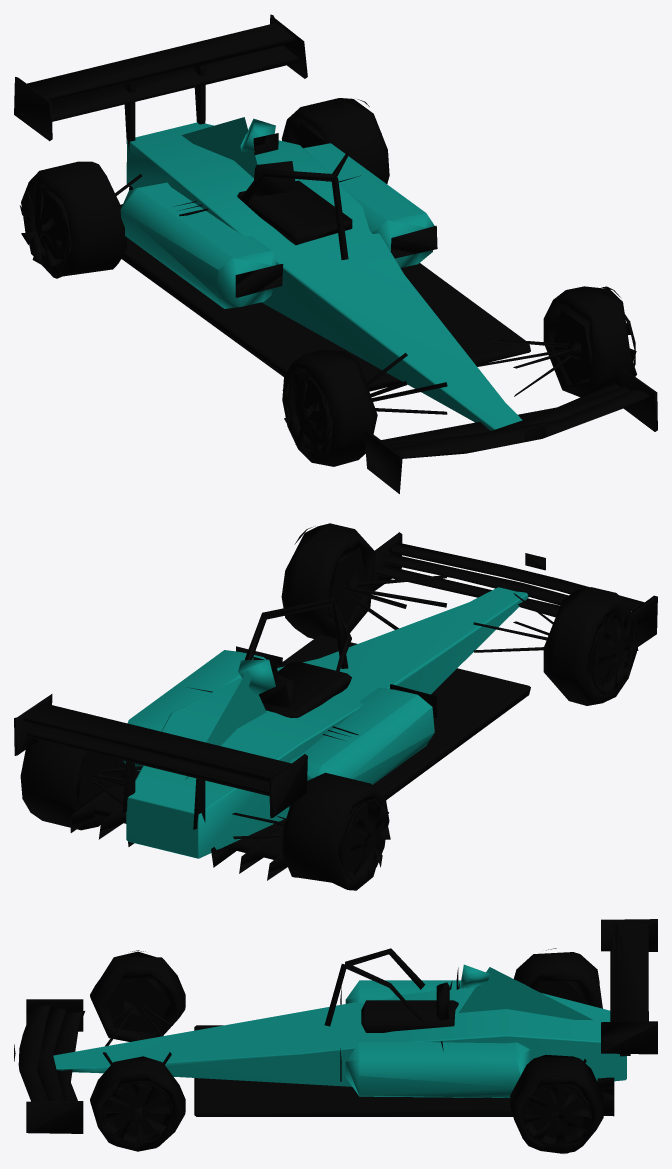
Rendered from f1-far.glb.
The picture shows the model from 3 angles, top to bottom: view 1: azimuth 30°, elevation 25°; view 2: azimuth 150°, elevation 25°; view 3: azimuth 270°, elevation 25°; orthographic projection. The views are drawn at different scales.
Visible parts, largest first — view 1: chassis.001__Automotive clearcoat, chassis.001__Vehicle detail atlas, wheel_RL.001__Vehicle detail atlas, wheel_FL.001__Vehicle detail atlas, wheel_FR.001__Vehicle detail atlas, wheel_RR.001__Vehicle detail atlas; view 2: chassis.001__Vehicle detail atlas, chassis.001__Automotive clearcoat, wheel_RL.001__Vehicle detail atlas, wheel_FL.001__Vehicle detail atlas, wheel_FR.001__Vehicle detail atlas, wheel_RR.001__Vehicle detail atlas; view 3: chassis.001__Automotive clearcoat, chassis.001__Vehicle detail atlas, wheel_RR.001__Vehicle detail atlas, wheel_FR.001__Vehicle detail atlas, wheel_FL.001__Vehicle detail atlas, wheel_RL.001__Vehicle detail atlas.
Part boxes in pixels (bbox=[...]): chassis.001__Automotive clearcoat: bbox=[120, 117, 522, 430]; chassis.001__Vehicle detail atlas: bbox=[14, 14, 657, 493]; wheel_RL.001__Vehicle detail atlas: bbox=[19, 161, 126, 278]; wheel_FL.001__Vehicle detail atlas: bbox=[282, 350, 377, 466]; wheel_FR.001__Vehicle detail atlas: bbox=[543, 286, 636, 397]; wheel_RR.001__Vehicle detail atlas: bbox=[281, 98, 389, 183]; chassis.001__Vehicle detail atlas: bbox=[14, 532, 657, 880]; chassis.001__Automotive clearcoat: bbox=[123, 587, 528, 858]; wheel_RL.001__Vehicle detail atlas: bbox=[282, 772, 390, 890]; wheel_FL.001__Vehicle detail atlas: bbox=[543, 587, 638, 705]; wheel_FR.001__Vehicle detail atlas: bbox=[281, 523, 375, 638]; wheel_RR.001__Vehicle detail atlas: bbox=[20, 740, 125, 830]; chassis.001__Automotive clearcoat: bbox=[53, 964, 626, 1097]; chassis.001__Vehicle detail atlas: bbox=[14, 919, 657, 1133]; wheel_RR.001__Vehicle detail atlas: bbox=[510, 1055, 603, 1153]; wheel_FR.001__Vehicle detail atlas: bbox=[90, 1056, 185, 1151]; wheel_FL.001__Vehicle detail atlas: bbox=[90, 950, 185, 1041]; wheel_RL.001__Vehicle detail atlas: bbox=[513, 948, 602, 1008].
Size of the model in its own units: 2.36 by 1.1 by 4.84.
Materials: 2 (1 with a texture image).
